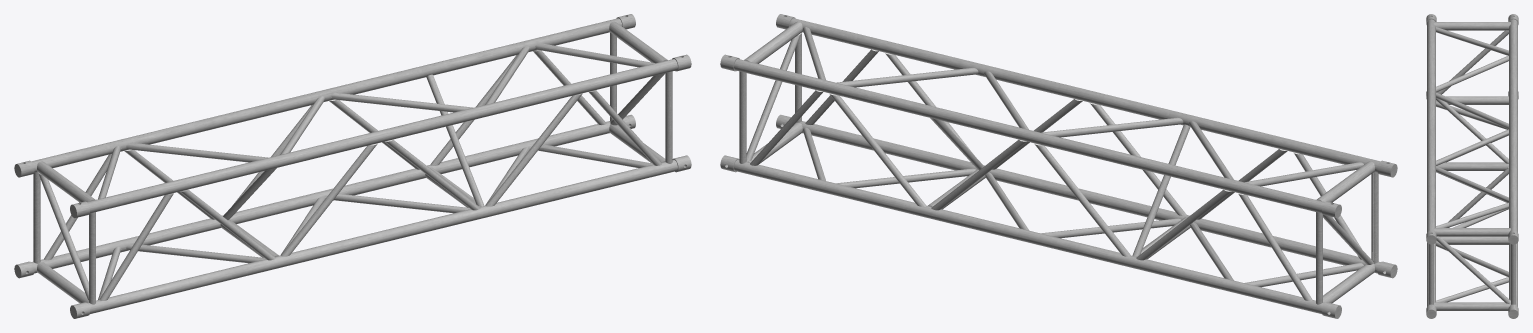
Rendered from Milos_M520_3000_truss_section-e0108522.glb.
The picture shows the model from 3 angles, left to right: view 1: azimuth 30°, elevation 25°; view 2: azimuth 150°, elevation 25°; view 3: azimuth 270°, elevation 25°; orthographic projection. The views are drawn at different scales.
Parts seen in each view (by area): view 1: Geom3D; view 2: Geom3D; view 3: Geom3D.
Part boxes in pixels (x1=…): Geom3D: x1=14, y1=14, x2=691, y2=318; Geom3D: x1=720, y1=14, x2=1397, y2=318; Geom3D: x1=1426, y1=14, x2=1518, y2=318.
Bounding box in the file's own units: 3 × 0.529 × 0.529.
Materials: 2 (1 with a texture image).
